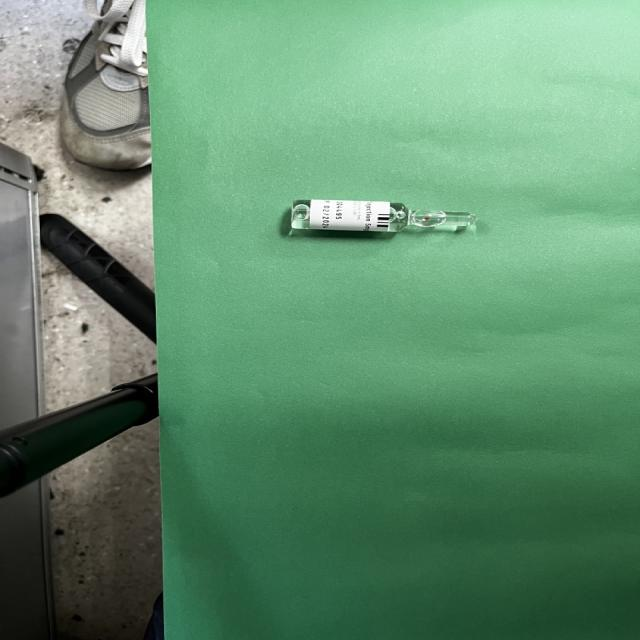Ampoules: (290, 200, 475, 232)
